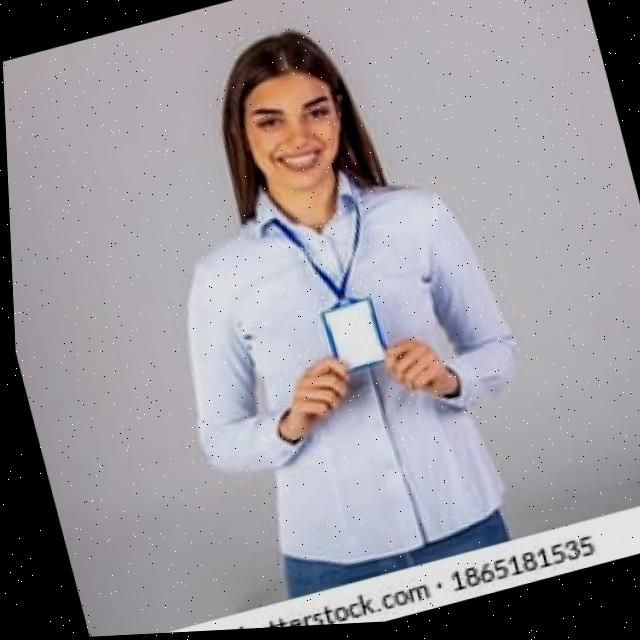id_card: (256, 187, 411, 398)
